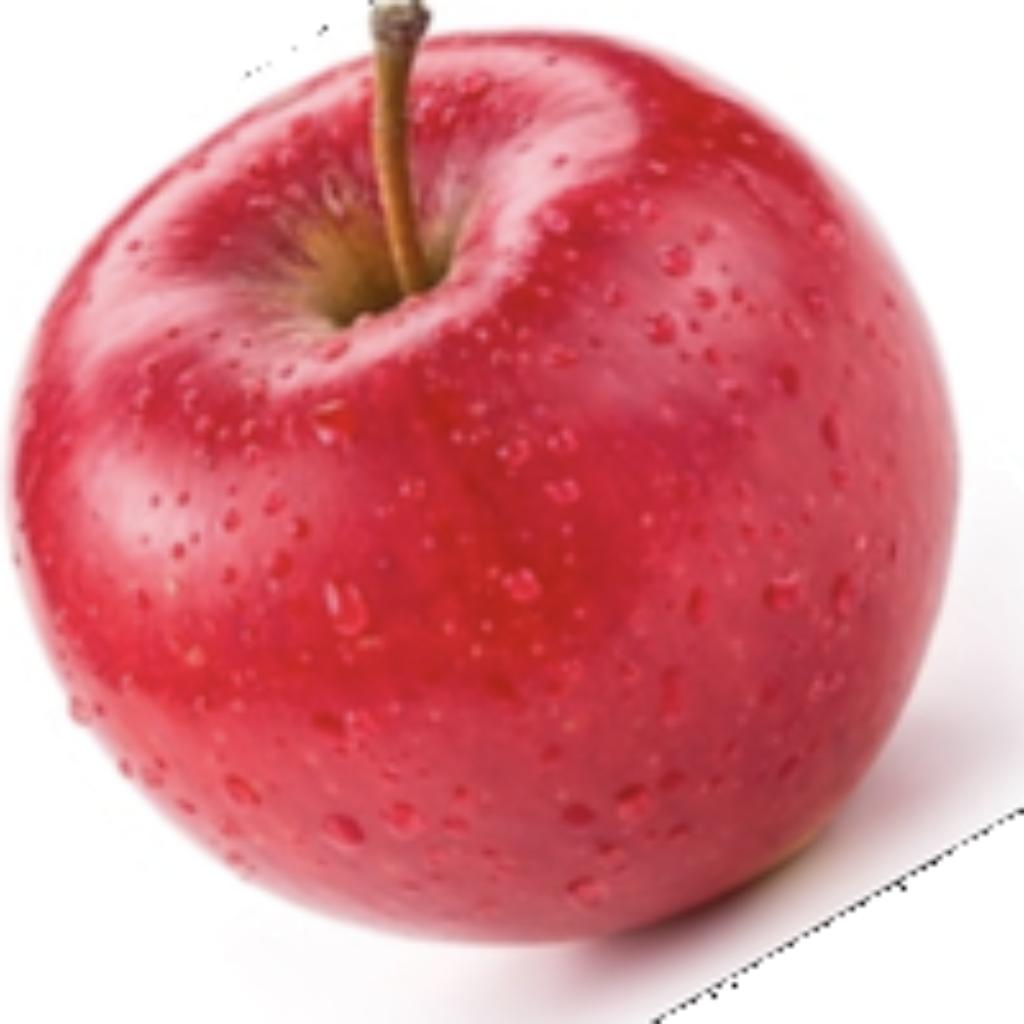apple: (0, 0, 1019, 1019)
